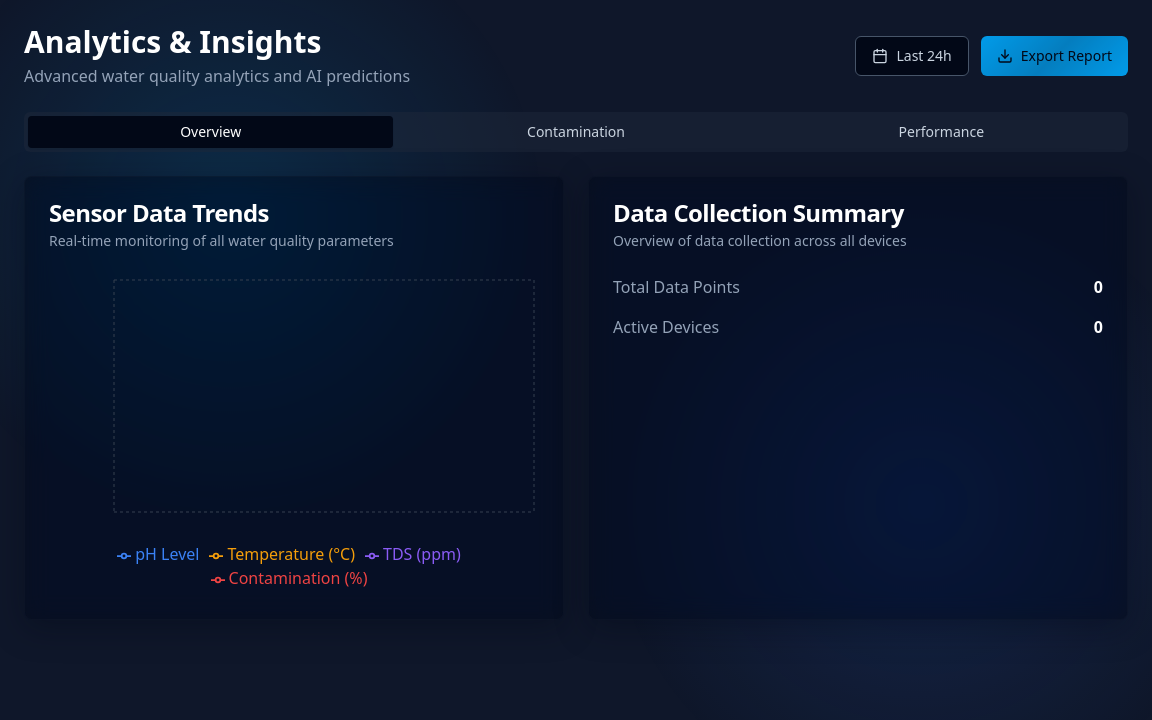
Analytics Page › opens time filter dialog when time filter button clicked
Click the button "Last 24h" at [912, 56], box [856,36,969,76]
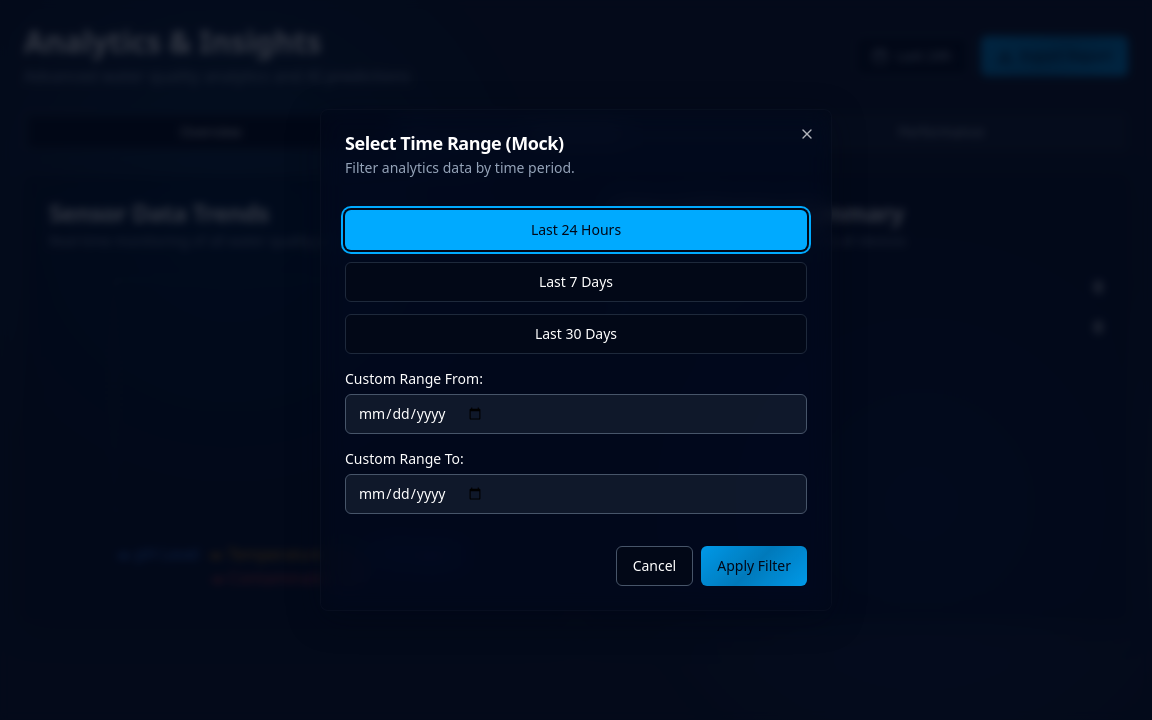
Expected: the heading "Select Time Range (Mock)" is shown, [345,131,564,155]
